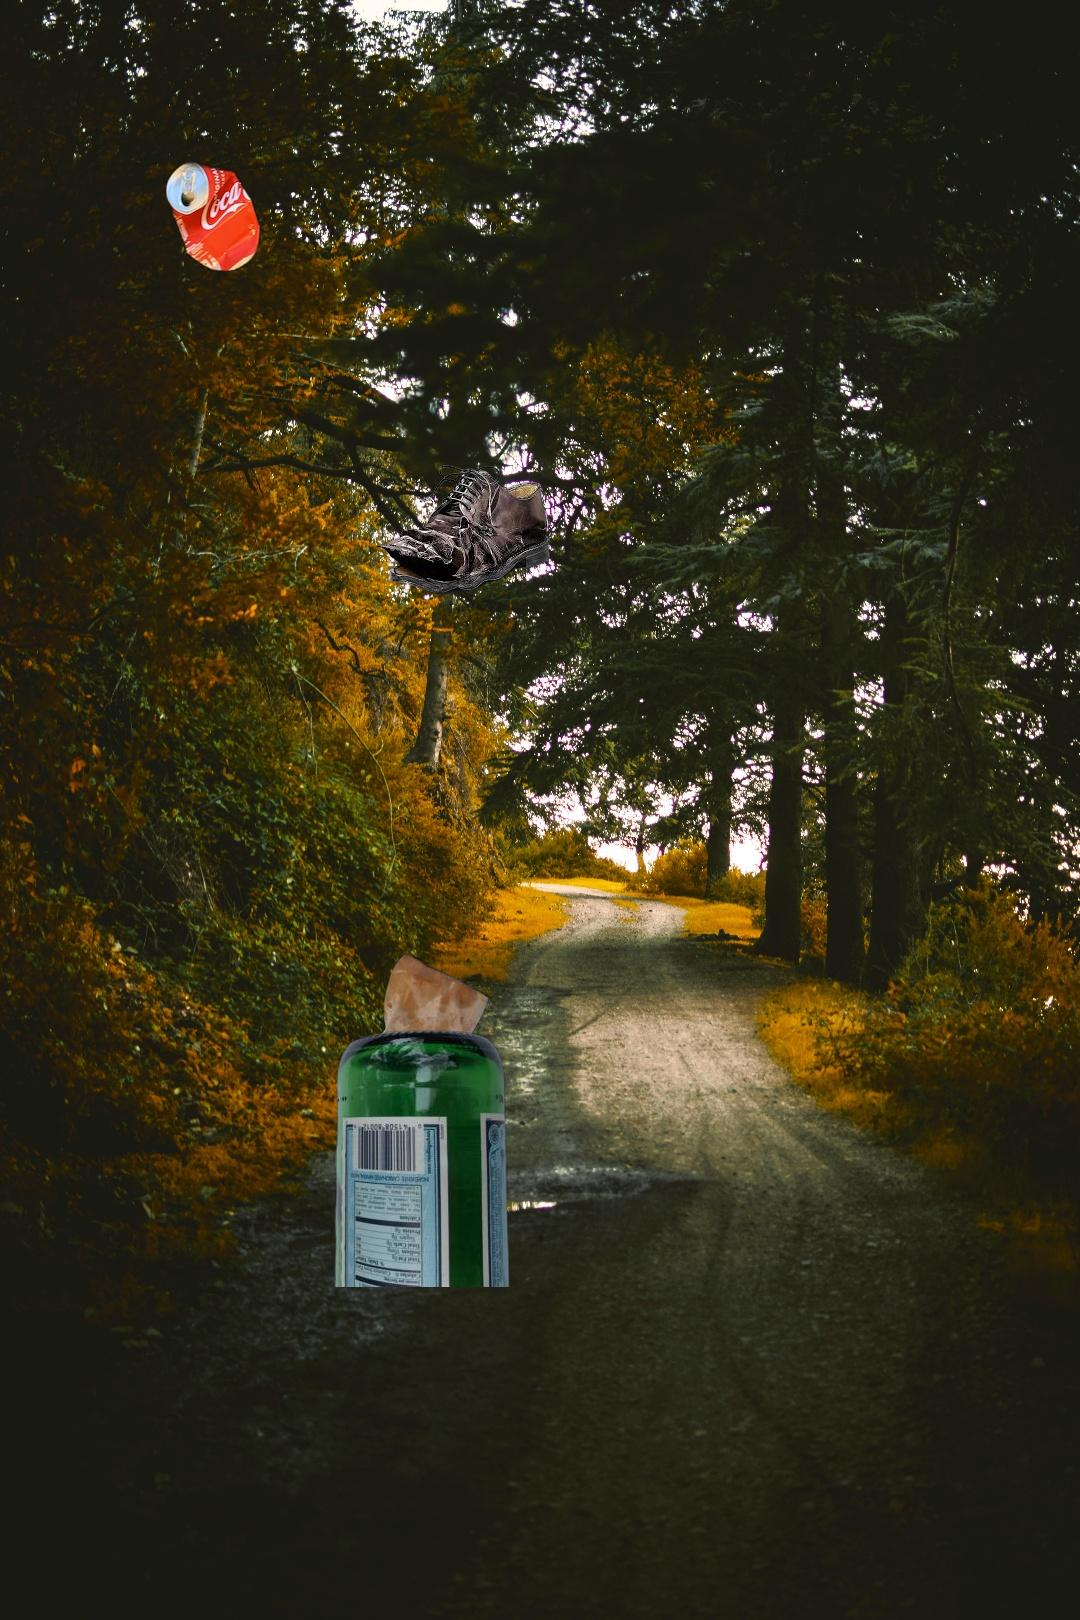glass: (329, 1029, 513, 1287)
metal-cans: (162, 157, 264, 278)
paper-bag: (329, 950, 493, 1113)
shoes: (374, 462, 551, 597)
